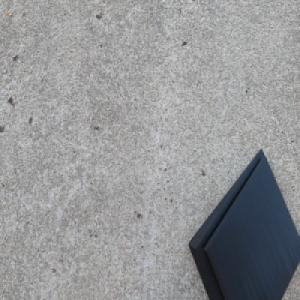PlasticPart: (188, 145, 300, 300)
